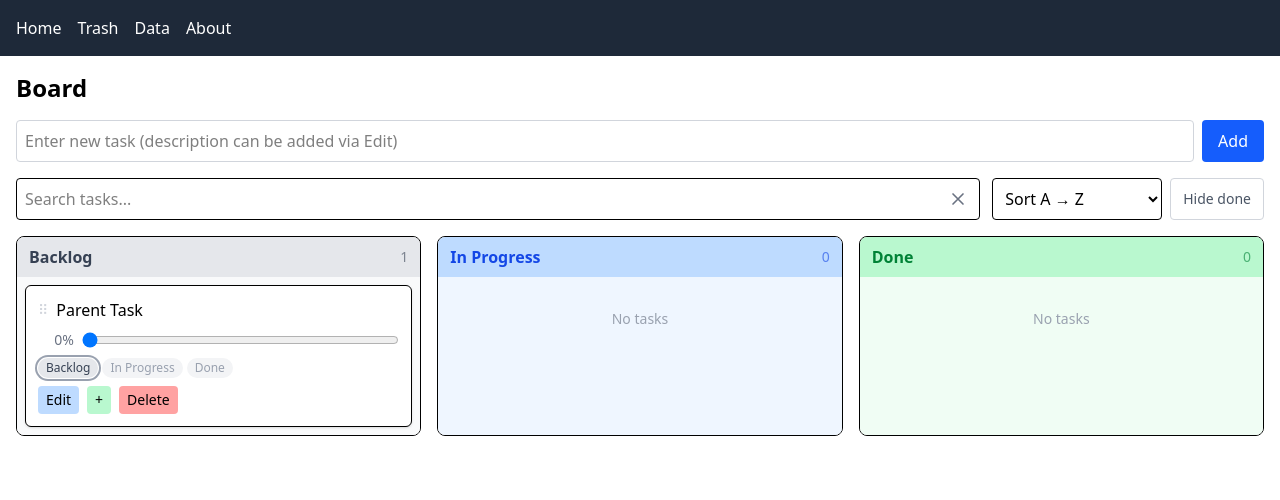
Scenario: shows an inline subtask form when the + button is clicked
Click the button named "add subtask to parent task" at (99, 400), box [87,386,111,414]
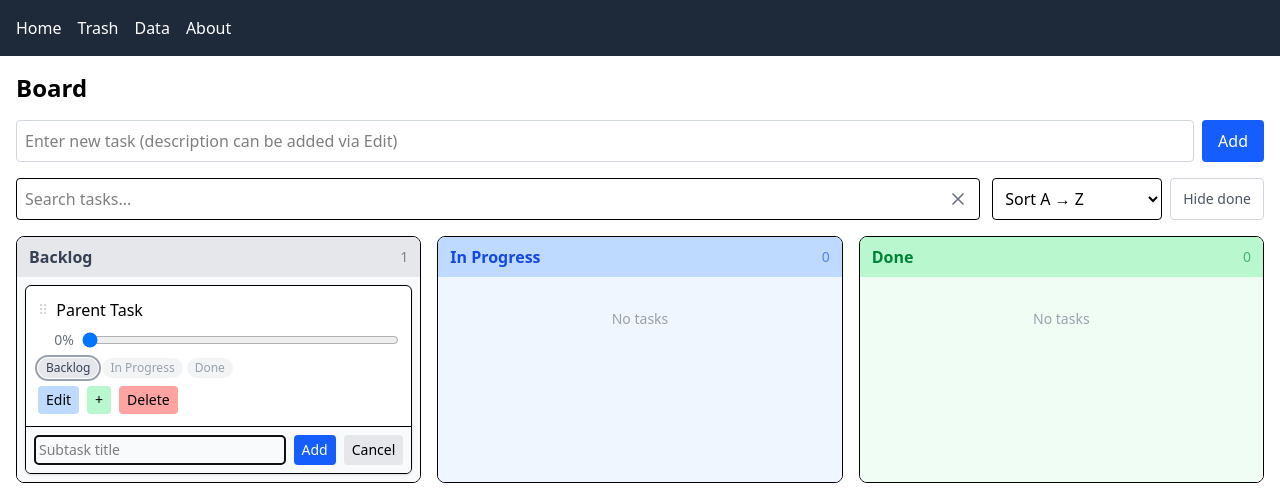
expect the field with placeholder "Subtask title" is shown: met, box [34,435,286,465]
